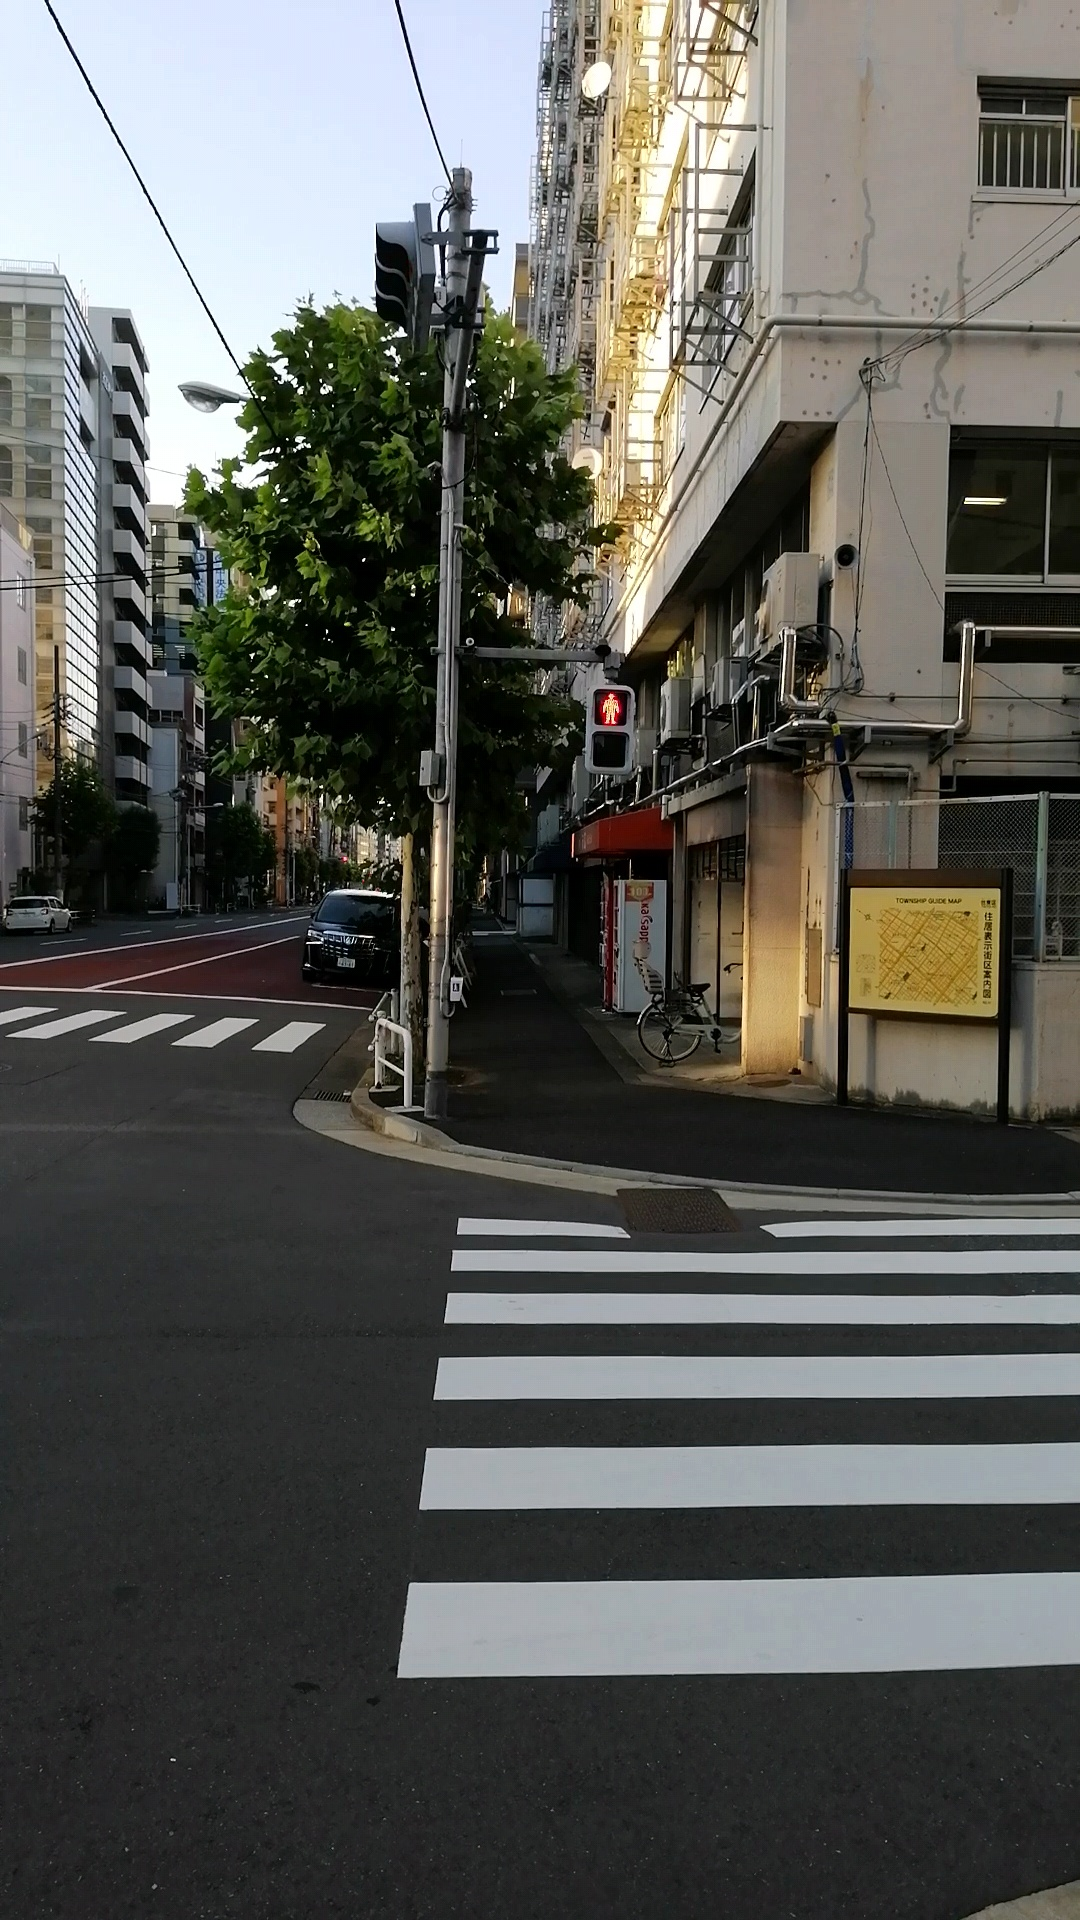red: (585, 679, 637, 774)
